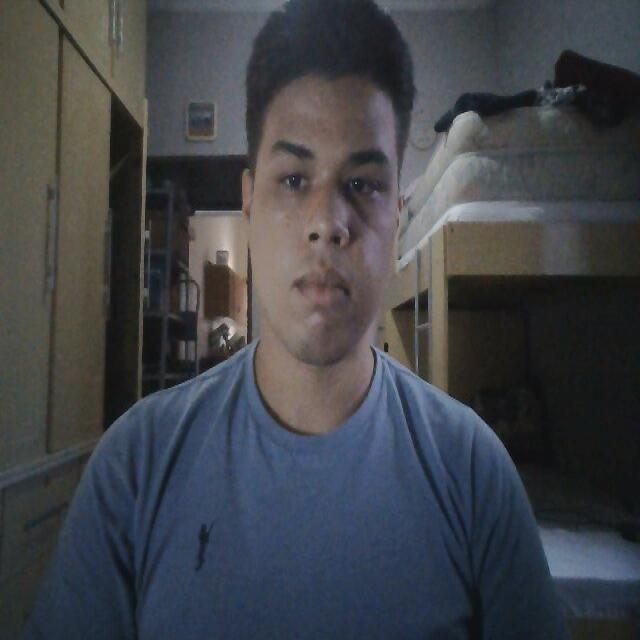acordado: (250, 130, 394, 360)
